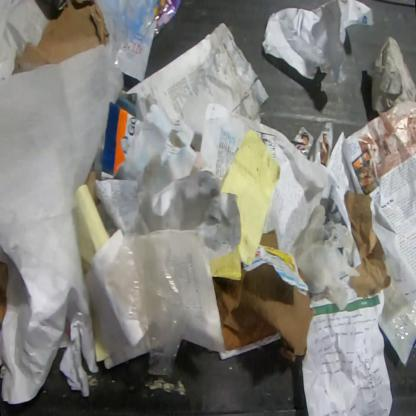cardboard: (212, 262, 316, 364), (11, 0, 110, 77), (370, 34, 416, 115), (0, 260, 9, 331), (86, 170, 103, 206), (259, 229, 279, 249), (298, 266, 306, 283)
soft_plastic: (0, 0, 126, 317), (103, 228, 191, 380), (292, 204, 361, 312), (105, 0, 182, 77), (382, 251, 415, 348)
